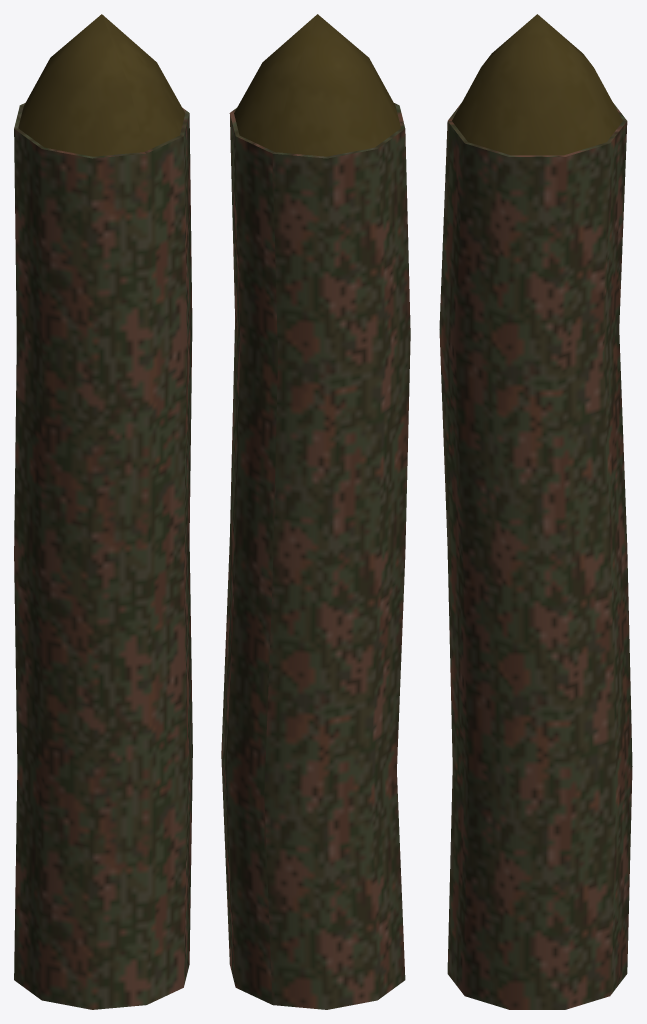
The picture shows the model from 3 angles, left to right: view 1: azimuth 30°, elevation 25°; view 2: azimuth 150°, elevation 25°; view 3: azimuth 270°, elevation 25°; orthographic projection.
Visible parts, largest first — view 1: FF_P4; view 2: FF_P4; view 3: FF_P4.
Boxes of the visible parts, x1,y1,x2,y2 form: FF_P4: [14, 14, 192, 1009]; FF_P4: [221, 14, 410, 1009]; FF_P4: [439, 14, 632, 1009].
Size of the model in its own units: 54.21 by 320 by 58.37.
Materials: 1 (1 with a texture image).
